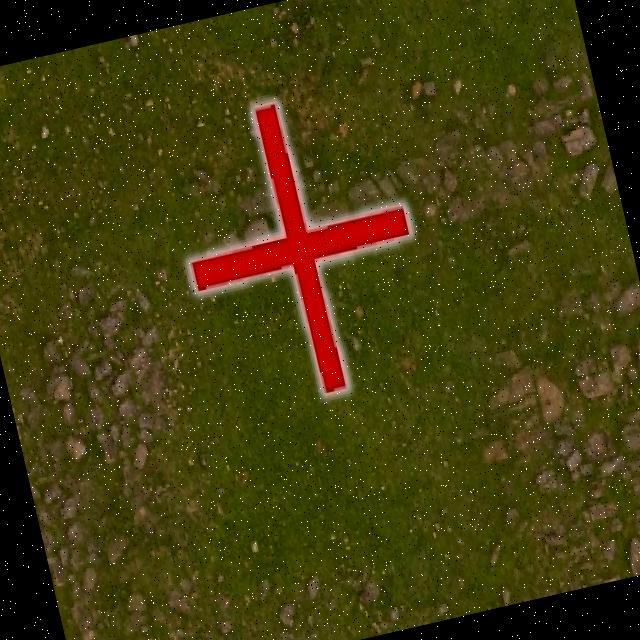x_marker: (158, 79, 440, 415)
